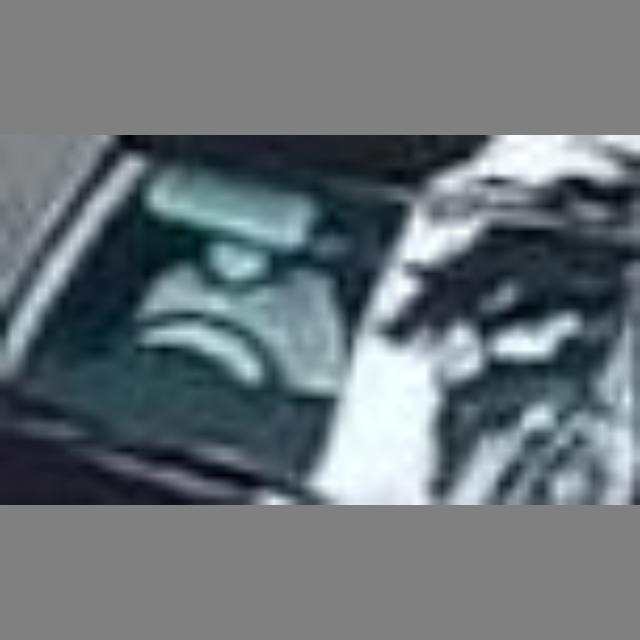tidak-pakai: (126, 194, 362, 421)
